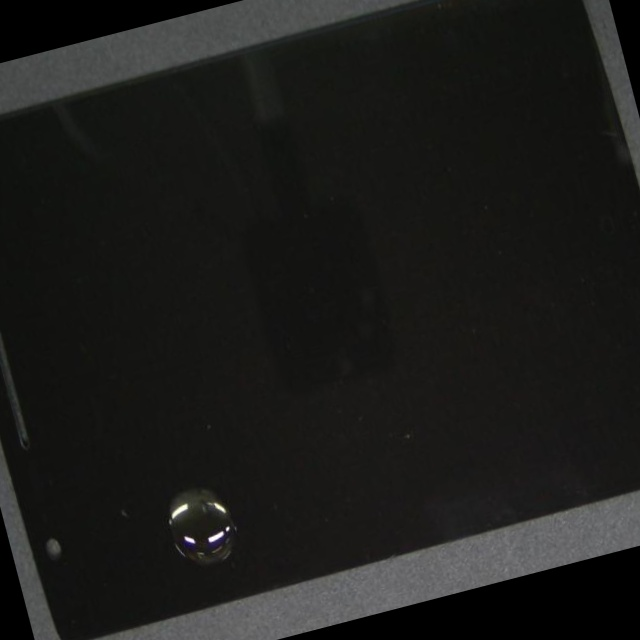oil: (60, 291, 362, 640)
